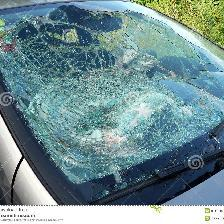glass_shatter: (2, 8, 189, 154)
